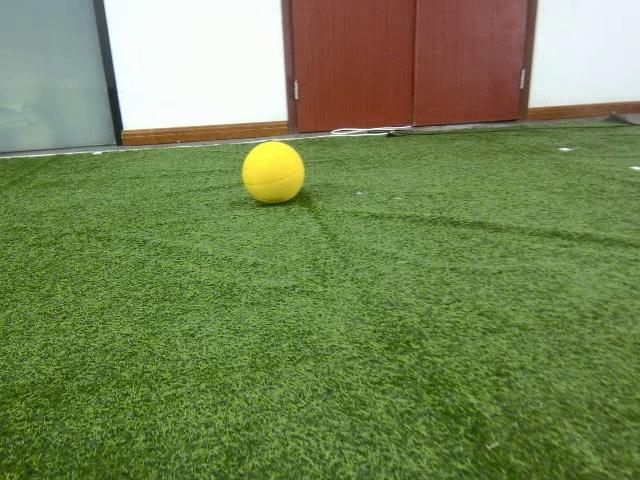yellow_ball: (242, 140, 305, 204)
